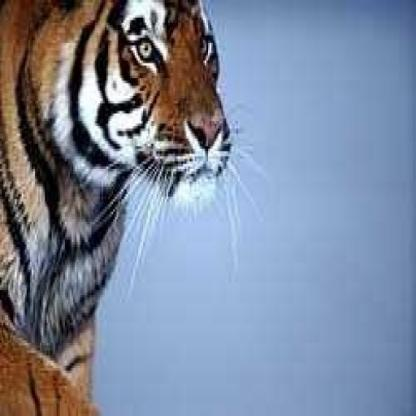Tiger: (0, 0, 243, 410)
